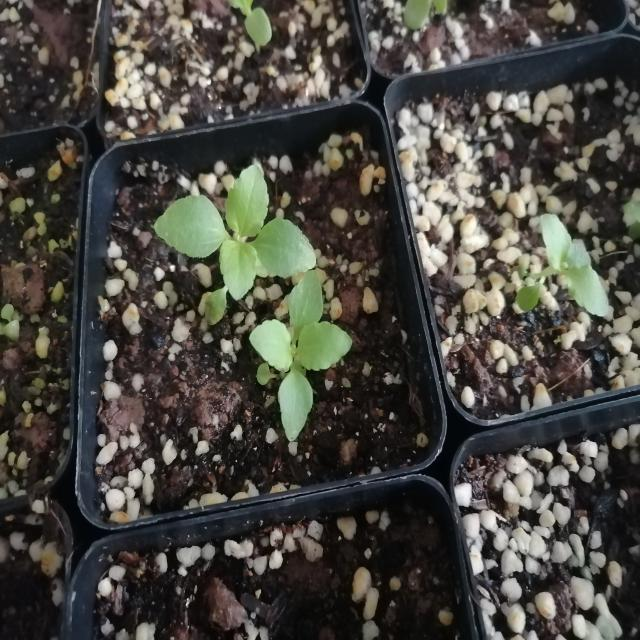billygoat_weed: (164, 158, 318, 316), (231, 283, 360, 434)
